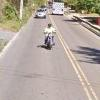Motorcycle: (34, 22, 61, 51)
